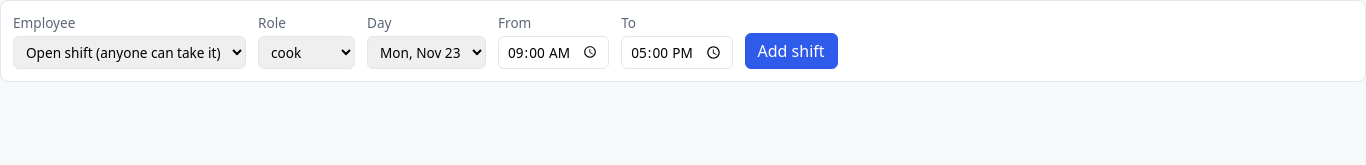
Test case: ShiftForm › keeps overtime warnings visible after saving
Click the button "Add shift" at (791, 51), box [744,33,838,69]
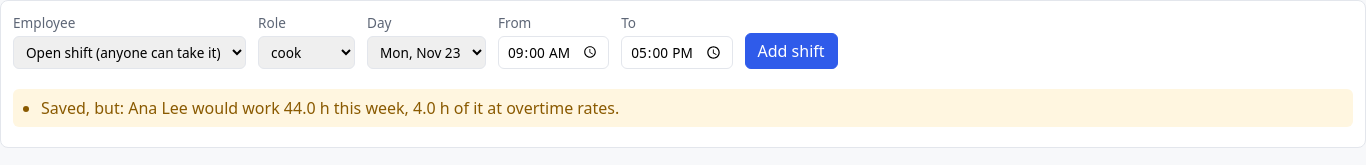
Check: the message shows "Saved, but: Ana Lee would work 44.0 h", box [13,89,1353,127]
